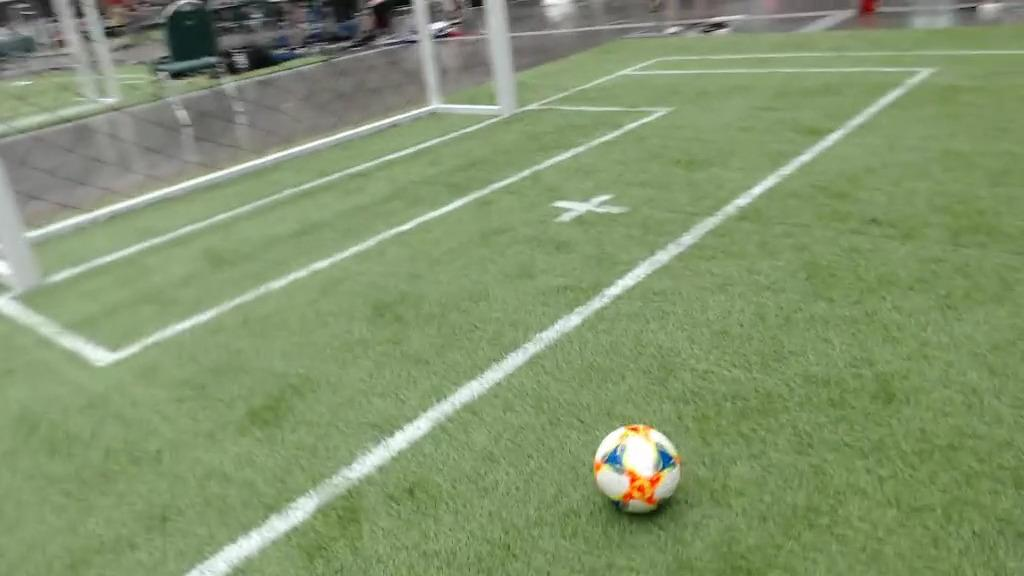ball: (594, 424, 680, 512)
